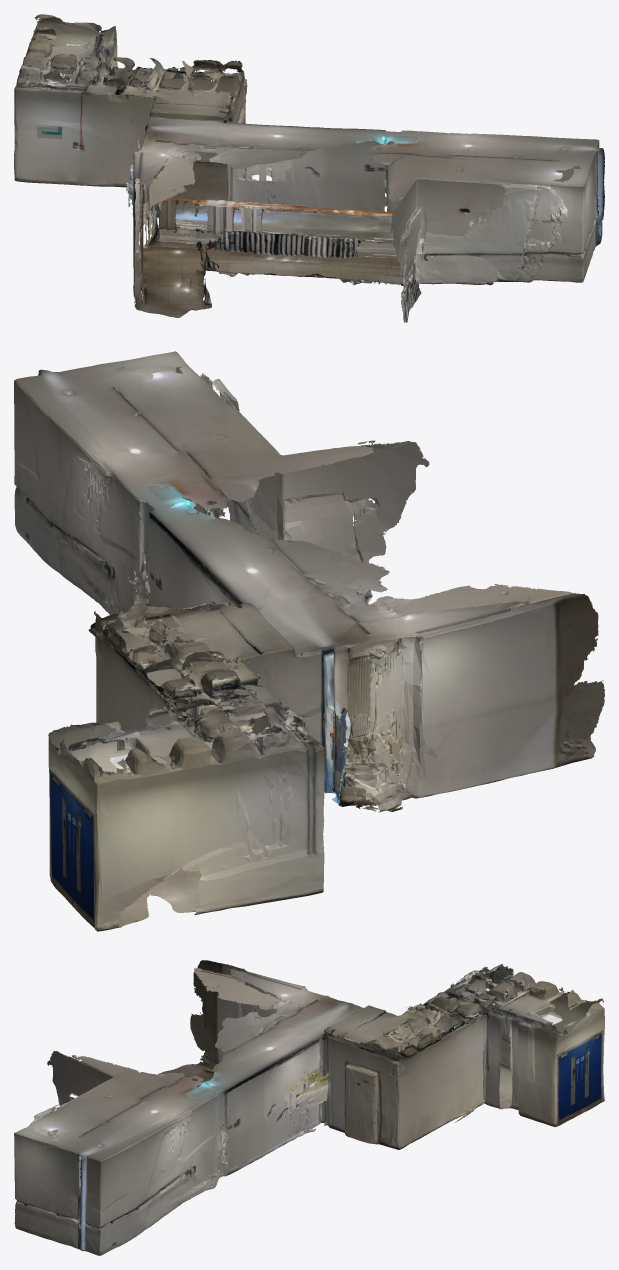
The model's file is G_corridor_5_LOW_POLY.fbx.
3 views of the same model, one above another, from view 1: azimuth 30°, elevation 25°; view 2: azimuth 150°, elevation 25°; view 3: azimuth 270°, elevation 25° (orthographic). The views are drawn at different scales.
Visible parts, largest first — view 1: G_corridor_5_LOW_POLY; view 2: G_corridor_5_LOW_POLY; view 3: G_corridor_5_LOW_POLY.
Part boxes in pixels (x1,y1,x2,y2): G_corridor_5_LOW_POLY: (14, 14, 604, 322); G_corridor_5_LOW_POLY: (14, 351, 604, 931); G_corridor_5_LOW_POLY: (14, 960, 604, 1255).
Size of the model in its own units: 1275 by 424 by 1572.
Materials: 1 (1 with a texture image).
